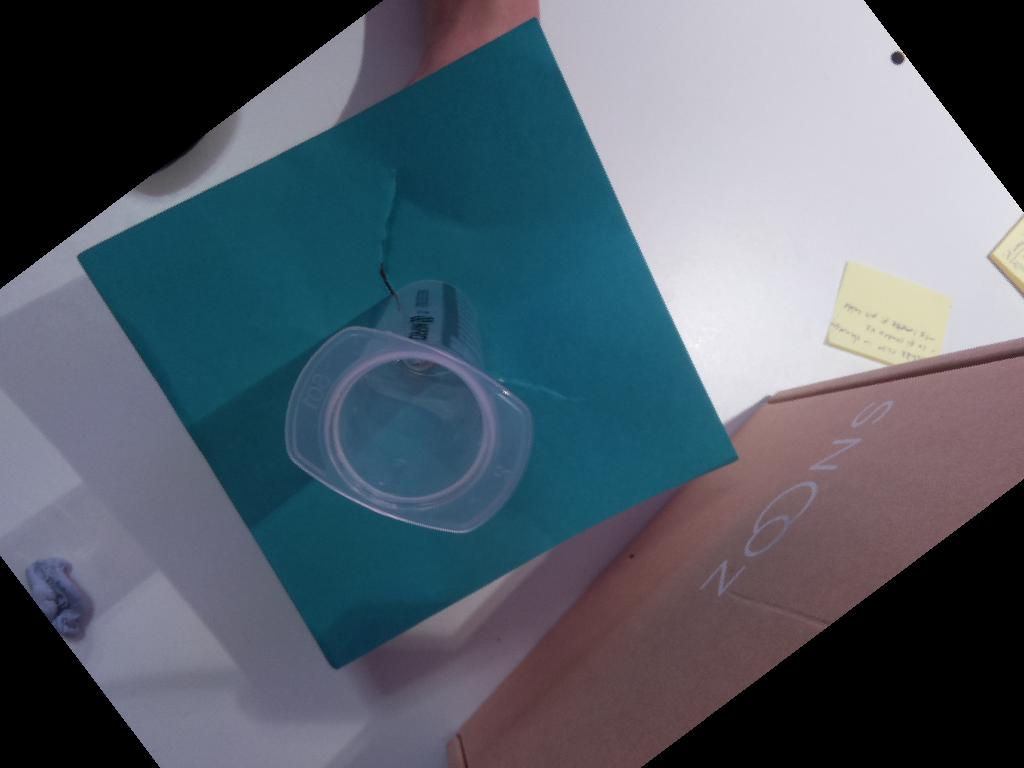clean: (283, 324, 535, 533)
